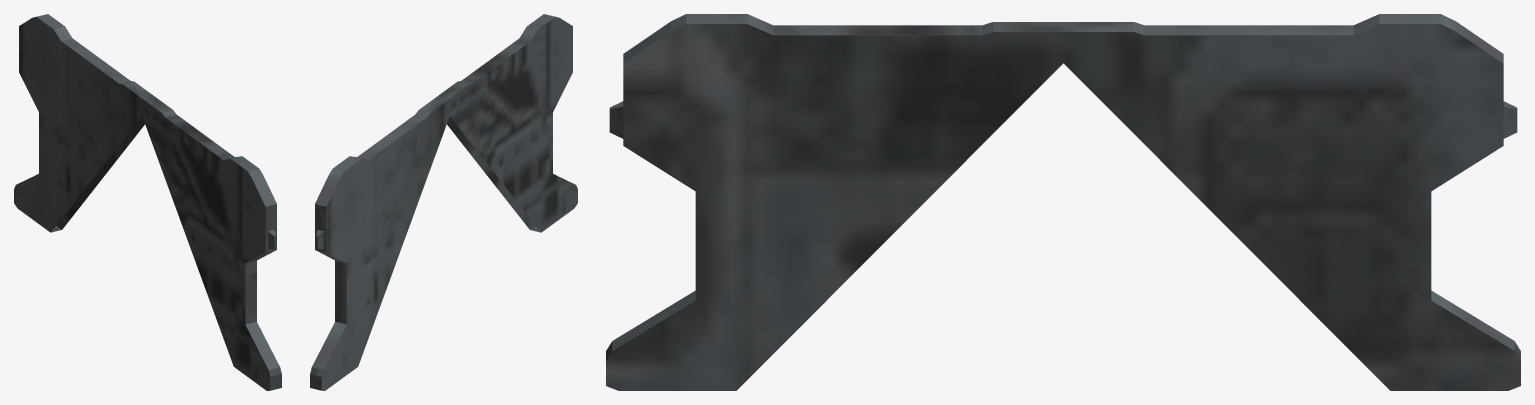
The model's file is Peca3.fbx.
The picture shows the model from 3 angles, left to right: view 1: azimuth 30°, elevation 25°; view 2: azimuth 150°, elevation 25°; view 3: azimuth 270°, elevation 25°; orthographic projection. The views are drawn at different scales.
Visible parts, largest first — view 1: polySurface79; view 2: polySurface79; view 3: polySurface79.
Boxes of the visible parts, x1,y1,x2,y2 form: polySurface79: (14, 14, 281, 390); polySurface79: (310, 14, 577, 390); polySurface79: (606, 14, 1520, 390).
Size of the model in its own units: 0.157 by 2.66 by 6.02.
